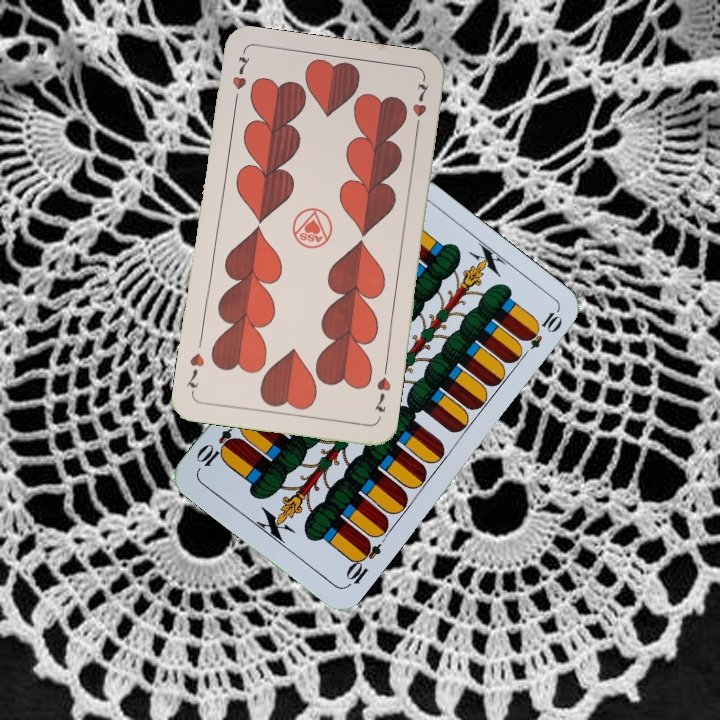E10: (341, 535, 384, 590)
H7: (228, 52, 252, 108), (370, 362, 394, 415)
